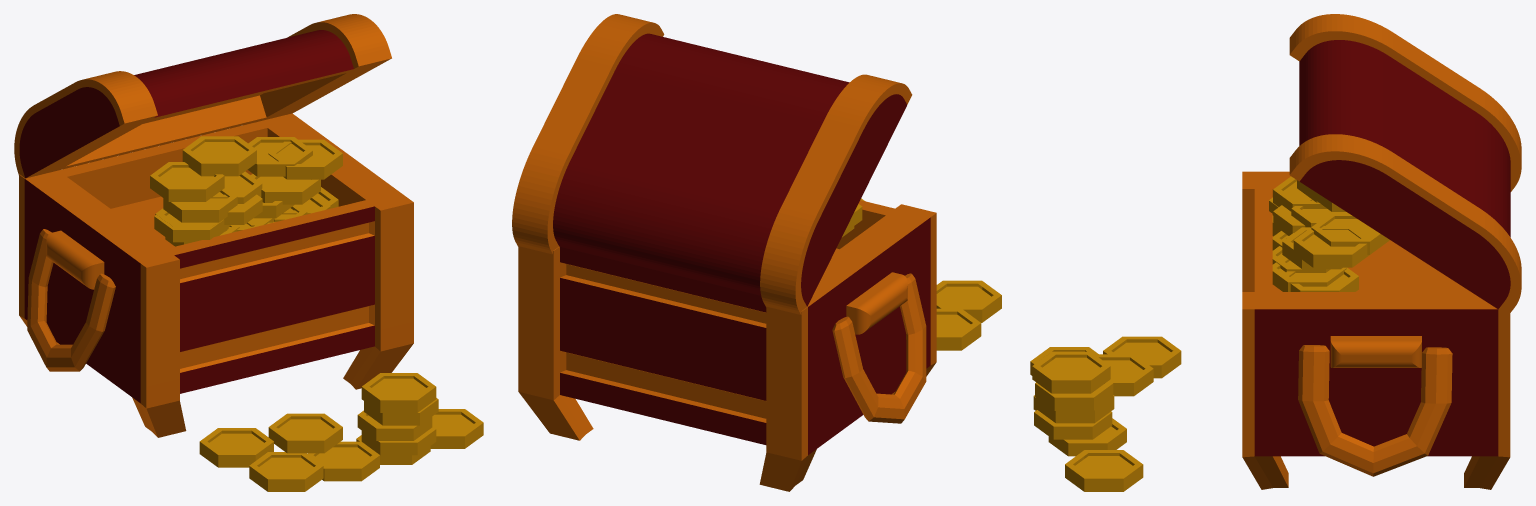
File: new_treasure_box.glb
3 renders of one model, left to right at view 1: azimuth 30°, elevation 25°; view 2: azimuth 150°, elevation 25°; view 3: azimuth 270°, elevation 25°, orthographic. The views are drawn at different scales.
Parts seen in each view (by area): view 1: Cube, Cylinder, Cube. top, Torus.002, Cube.002; view 2: Cube. top, Cube, Torus.002, Cylinder, Cube.002; view 3: Cube. top, Cube, Cylinder, Torus.001, Cube.001.
Boxes of the visible parts, x1=… form: Cube: x1=19, y1=113, x2=413, y2=437; Cylinder: x1=150, y1=136, x2=483, y2=491; Cube. top: x1=14, y1=14, x2=391, y2=178; Torus.002: x1=27, y1=229, x2=115, y2=371; Cube.002: x1=46, y1=230, x2=104, y2=289; Cube. top: x1=512, y1=14, x2=912, y2=314; Cube: x1=518, y1=200, x2=936, y2=491; Torus.002: x1=832, y1=273, x2=926, y2=423; Cylinder: x1=842, y1=198, x2=1001, y2=350; Cube.002: x1=846, y1=272, x2=907, y2=334; Cube. top: x1=1289, y1=14, x2=1521, y2=315; Cube: x1=1242, y1=171, x2=1510, y2=489; Cylinder: x1=1030, y1=176, x2=1389, y2=491; Torus.001: x1=1298, y1=345, x2=1452, y2=476; Cube.001: x1=1330, y1=336, x2=1421, y2=367.
Size of the model in its own units: 506 by 475 by 605.
